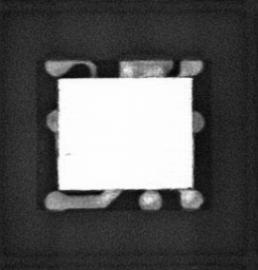DIE_INK: (64, 150, 73, 157)
